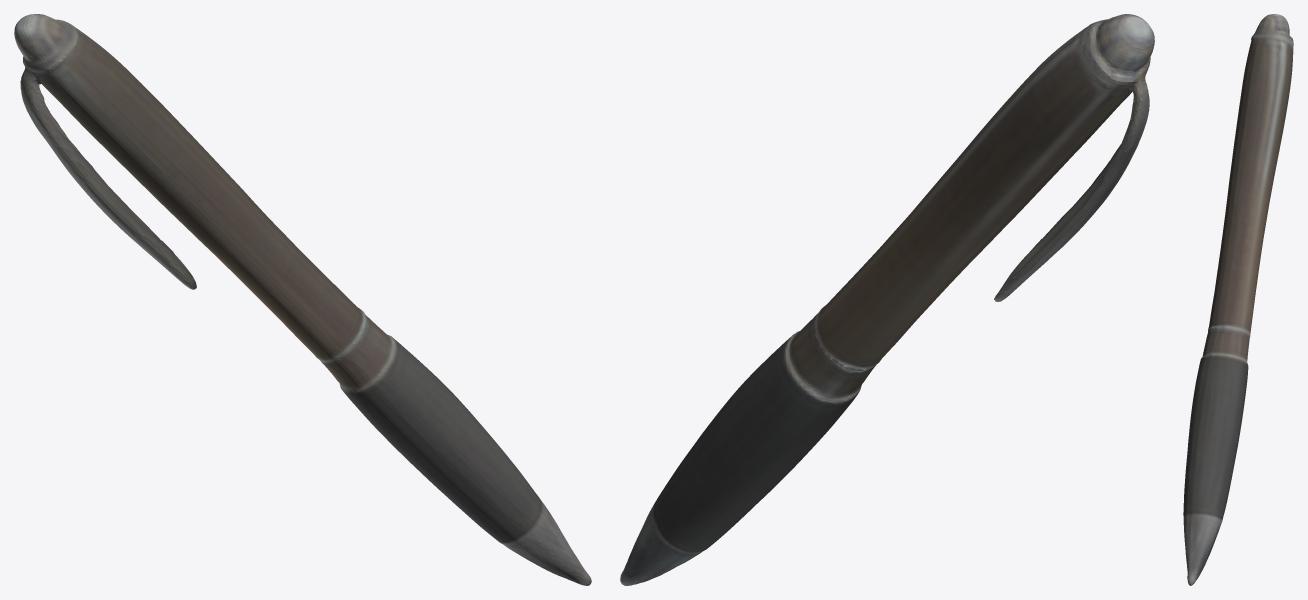
Rendered from frame_0015_source_000015_object.glb.
The picture shows the model from 3 angles, left to right: view 1: azimuth 30°, elevation 25°; view 2: azimuth 150°, elevation 25°; view 3: azimuth 270°, elevation 25°; orthographic projection. The views are drawn at different scales.
Parts seen in each view (by area): view 1: world; view 2: world; view 3: world.
Part boxes in pixels (x1,y1,x2,y2): world: [14, 14, 591, 585]; world: [620, 14, 1154, 585]; world: [1183, 14, 1293, 585].
Bounding box in the file's own units: 0.123 × 0.1481 × 0.0355.
